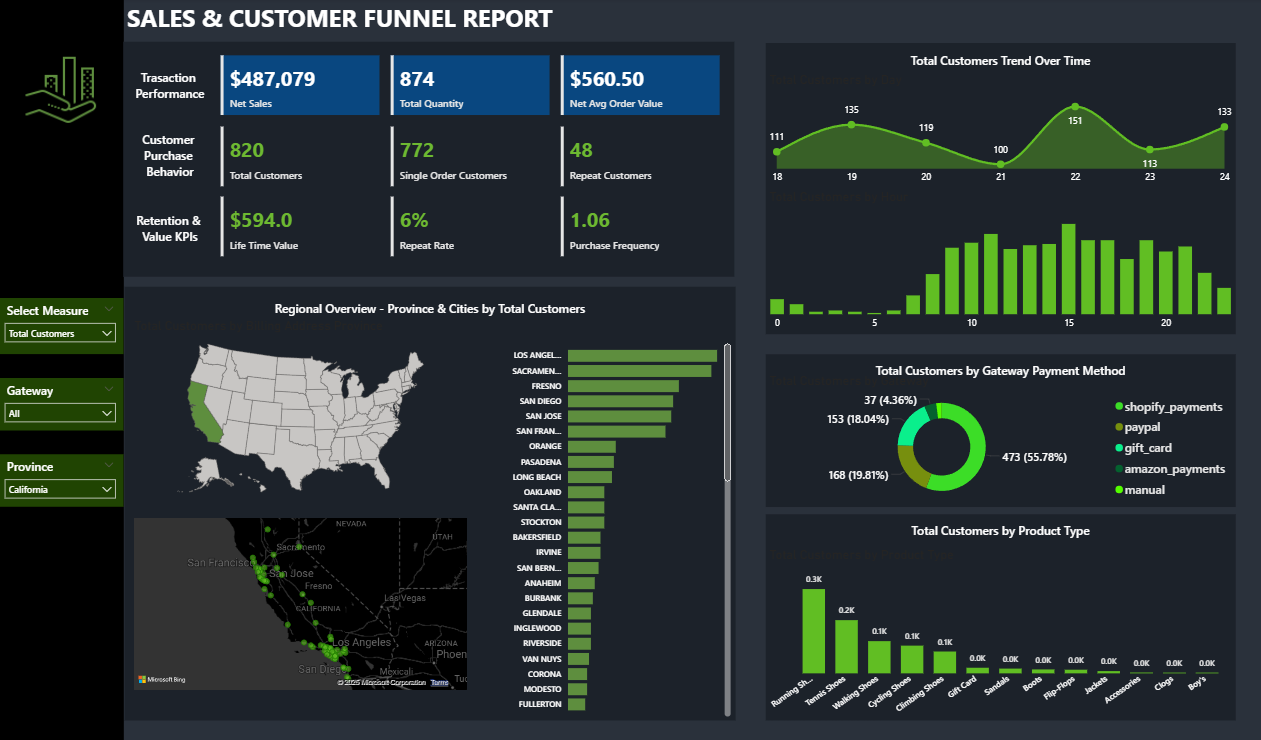

Layout of this report page (visuals, bound fields, positions):
{"tool":"powerbi","page":{"name":"Shopify Analysis","canvas":[1700,1000],"ordinal":0},"visuals":[{"type":"shape","box":[0,0,170,999],"z":0},{"type":"textbox","box":[169.2,0,754,58.6],"z":1000},{"type":"shape","box":[169.2,58.6,819.4,315],"z":2000},{"type":"cardVisual","fields":{"Data":["shopify_sales.Net Sales","shopify_sales.Total Quantity","shopify_sales.Net Avg Order Value"]},"box":[294.9,72.1,680.3,90.5],"z":3000},{"type":"card","fields":{"Values":["shopify_sales.Transaction Perf"]},"box":[169.2,82.1,125.7,70.4],"z":4000},{"type":"cardVisual","fields":{"Data":["shopify_sales.Total Customers","shopify_sales.Single Order Customers","shopify_sales.Repeat Customers"]},"box":[294.9,166.7,680.3,90.5],"z":5000},{"type":"card","fields":{"Values":["shopify_sales.Customer Purchase Behavior"]},"box":[169.2,160,125.7,93.8],"z":6000},{"type":"cardVisual","fields":{"Data":["shopify_sales.Life Time Value","shopify_sales.Repeat Rate","shopify_sales.Purchase Frequency"]},"box":[294.9,261.4,680.3,90.5],"z":7000},{"type":"card","fields":{"Values":["shopify_sales.Retention & Value KPIs"]},"box":[169.2,261.4,125.7,93.8],"z":8000},{"type":"shape","box":[170.9,387.1,819.4,581.4],"z":9000},{"type":"shapeMap","fields":{"Value":["shopify_sales.Total Customers"],"Category":["shopify_sales.Billing Address Province"]},"box":[179.3,429,455.8,249.7],"z":10000},{"type":"slicer","fields":{"Values":["Select Measure.Select Measure"]},"box":[0,402.1,169.2,75.4],"z":11000},{"type":"map","fields":{"Category":["shopify_sales.Location"]},"box":[179.3,692,455.8,241.3],"z":12000},{"type":"clusteredBarChart","fields":{"Y":["shopify_sales.Total Customers"],"Category":["shopify_sales.CITY"]},"box":[673.6,450.7,315,517.8],"z":13000},{"type":"card","fields":{"Values":["shopify_sales.Map Title"]},"box":[316.7,402.1,527.8,33.5],"z":14000},{"type":"shape","box":[1030.5,60.3,630,390.4],"z":15000},{"type":"areaChart","fields":{"Y":["shopify_sales.Total Customers"],"Category":["shopify_sales.Invoice Date.Variation.Date Hierarchy.Day"]},"box":[1030.5,98.9,630,159.2],"z":16000},{"type":"clusteredColumnChart","fields":{"Y":["shopify_sales.Total Customers"],"Category":["shopify_sales.Hour"]},"box":[1030.5,256.4,630,197.7],"z":17000},{"type":"card","fields":{"Values":["shopify_sales.Trend Title"]},"box":[1204.8,72.1,281.5,26.8],"z":18000},{"type":"shape","box":[1030.5,477.5,630,205],"z":19000},{"type":"donutChart","fields":{"Y":["shopify_sales.Total Customers"],"Category":["shopify_sales.Gateway"]},"box":[1030.5,502.7,630,179.3],"z":20000},{"type":"card","fields":{"Values":["shopify_sales.Gateway Title"]},"box":[1151.1,487.6,388.7,28.5],"z":21000},{"type":"shape","box":[1030.5,692,630,276.5],"z":22000},{"type":"columnChart","fields":{"Y":["shopify_sales.Total Customers"],"Category":["shopify_sales.Product Type"]},"box":[1030.5,735.6,630,232.9],"z":23000},{"type":"card","fields":{"Values":["shopify_sales.Product Title"]},"box":[1142.8,697.1,405.5,38.5],"z":24000},{"type":"slicer","fields":{"Values":["shopify_sales.Gateway"]},"box":[0,509.4,169.2,70.4],"z":26000},{"type":"slicer","fields":{"Values":["shopify_sales.Billing Address Province"]},"box":[0,611.6,169.2,70.4],"z":27000},{"type":"image","box":[23.5,60.3,124,125.7],"z":27001}]}

Visuals, with their boxes in screenshot pixels (x1, y1, x2, y2), scaled from the page's 1700x1000 canvas onto the 1261x740 screenshot:
shape: 0:0:126:739
textbox: 126:0:685:43
shape: 126:43:733:276
cardVisual - shopify_sales.Net Sales x shopify_sales.Total Quantity: 219:53:723:120
card - shopify_sales.Transaction Perf: 126:61:219:113
cardVisual - shopify_sales.Total Customers x shopify_sales.Single Order Customers: 219:123:723:190
card - shopify_sales.Customer Purchase Behavior: 126:118:219:188
cardVisual - shopify_sales.Life Time Value x shopify_sales.Repeat Rate: 219:193:723:260
card - shopify_sales.Retention & Value KPIs: 126:193:219:263
shape: 127:286:735:717
shapeMap - shopify_sales.Total Customers x shopify_sales.Billing Address Province: 133:317:471:502
slicer - Select Measure.Select Measure: 0:298:126:353
map - shopify_sales.Location: 133:512:471:691
clusteredBarChart - shopify_sales.Total Customers x shopify_sales.CITY: 500:334:733:717
card - shopify_sales.Map Title: 235:298:626:322
shape: 764:45:1232:334
areaChart - shopify_sales.Total Customers x shopify_sales.Invoice Date.Variation.Date Hierarchy.Day: 764:73:1232:191
clusteredColumnChart - shopify_sales.Total Customers x shopify_sales.Hour: 764:190:1232:336
card - shopify_sales.Trend Title: 894:53:1102:73
shape: 764:353:1232:505
donutChart - shopify_sales.Total Customers x shopify_sales.Gateway: 764:372:1232:505
card - shopify_sales.Gateway Title: 854:361:1142:382
shape: 764:512:1232:717
columnChart - shopify_sales.Total Customers x shopify_sales.Product Type: 764:544:1232:717
card - shopify_sales.Product Title: 848:516:1148:544
slicer - shopify_sales.Gateway: 0:377:126:429
slicer - shopify_sales.Billing Address Province: 0:453:126:505
image: 17:45:109:138
